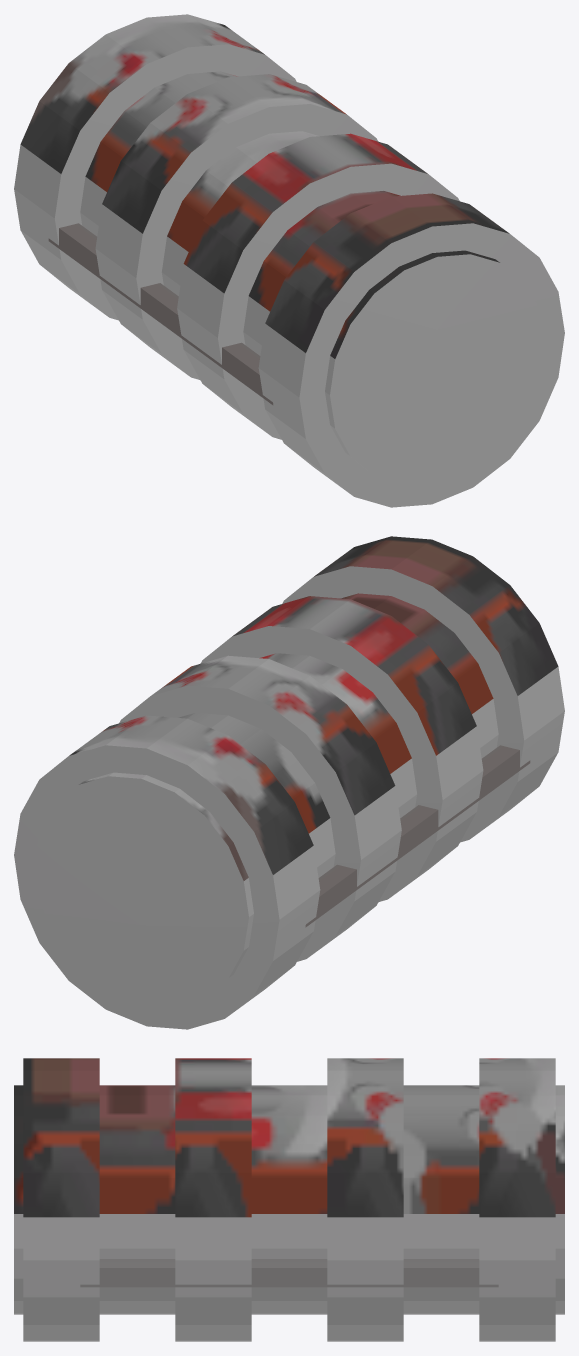
Rendered from Building_HemogenAmplifier.glb.
3 views of the same model, one above another, from view 1: azimuth 30°, elevation 25°; view 2: azimuth 150°, elevation 25°; view 3: azimuth 270°, elevation 25° (orthographic). The views are drawn at different scales.
Parts seen in each view (by area): view 1: HemogenAmplifier; view 2: HemogenAmplifier; view 3: HemogenAmplifier.
Part boxes in pixels (bbox=[...]): HemogenAmplifier: bbox=[14, 14, 564, 507]; HemogenAmplifier: bbox=[14, 536, 564, 1029]; HemogenAmplifier: bbox=[14, 1058, 564, 1341].
Size of the model in its own units: 0.94 by 0.94 by 1.81.
1 material, 1 textured.
